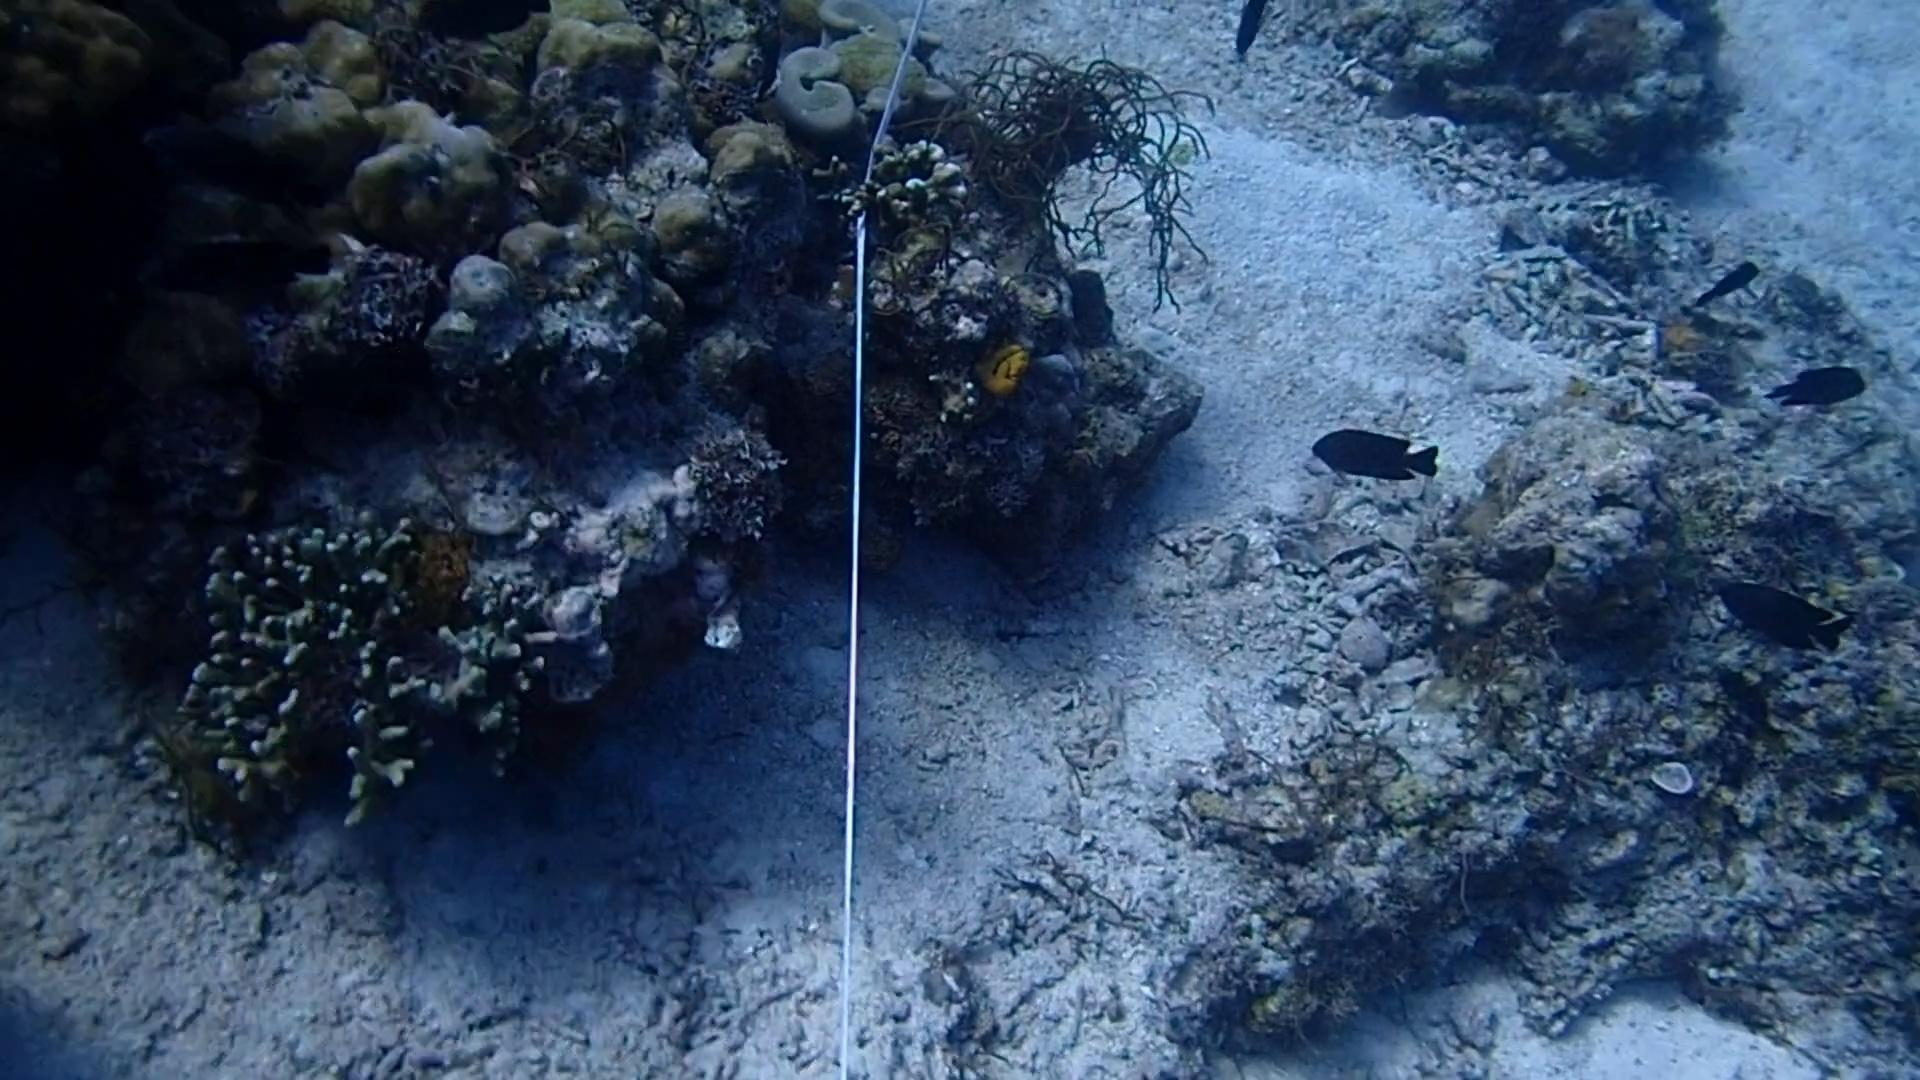Dark Fish: (1706, 566, 1851, 661), (1299, 415, 1455, 502), (1759, 336, 1878, 425), (1693, 650, 1795, 753), (1680, 253, 1774, 320), (1225, 0, 1286, 57)
